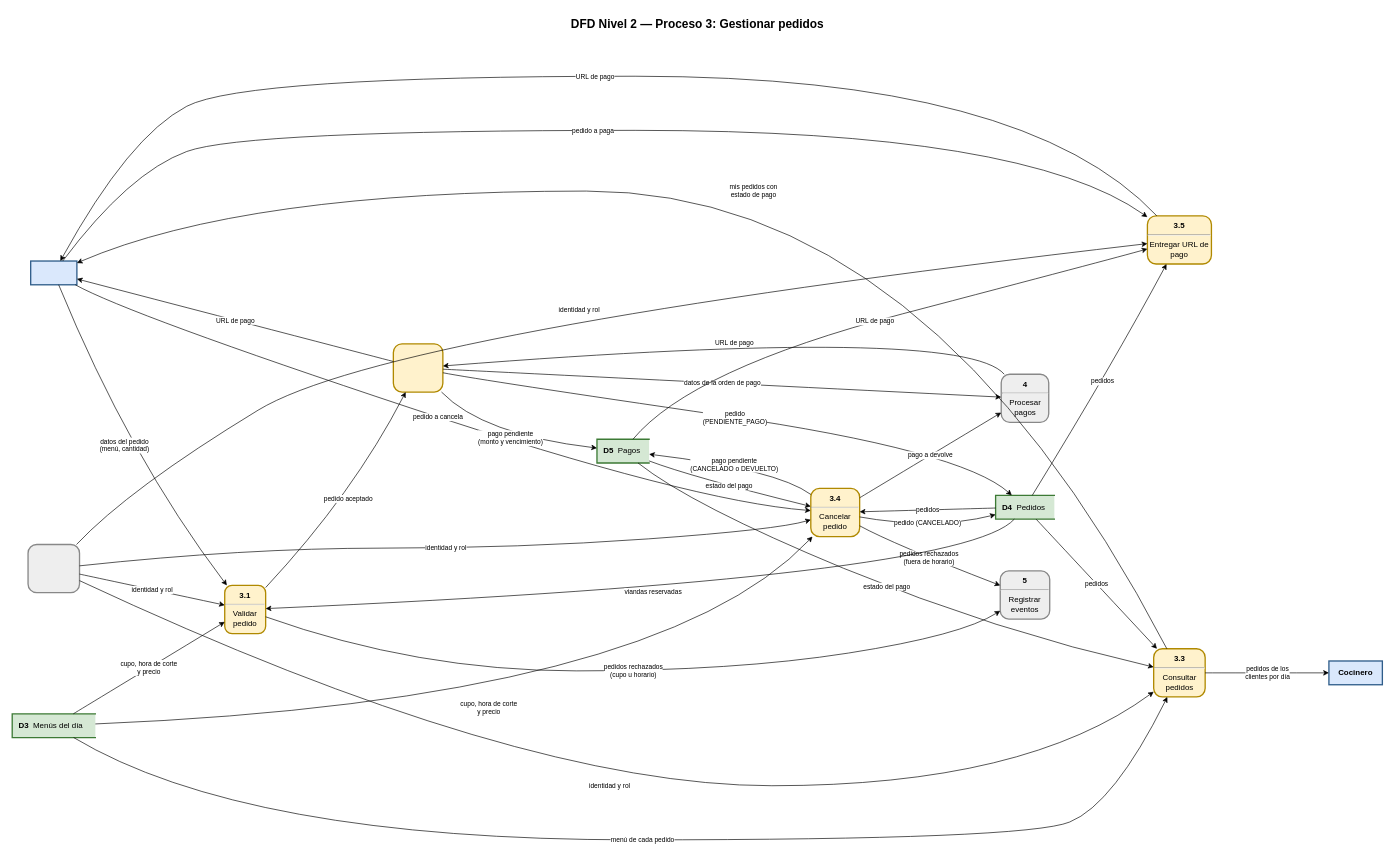
Some shapes in this 1394 by 855 pixel diagram are drawn without their labels. The box of each missing label's shape, as (x1, y1, x2, y2) in pixels:
1 Gestionar acceso: (27, 544, 80, 593)
3.2 Registrar reserva: (392, 343, 443, 392)
Cliente: (30, 260, 77, 285)
